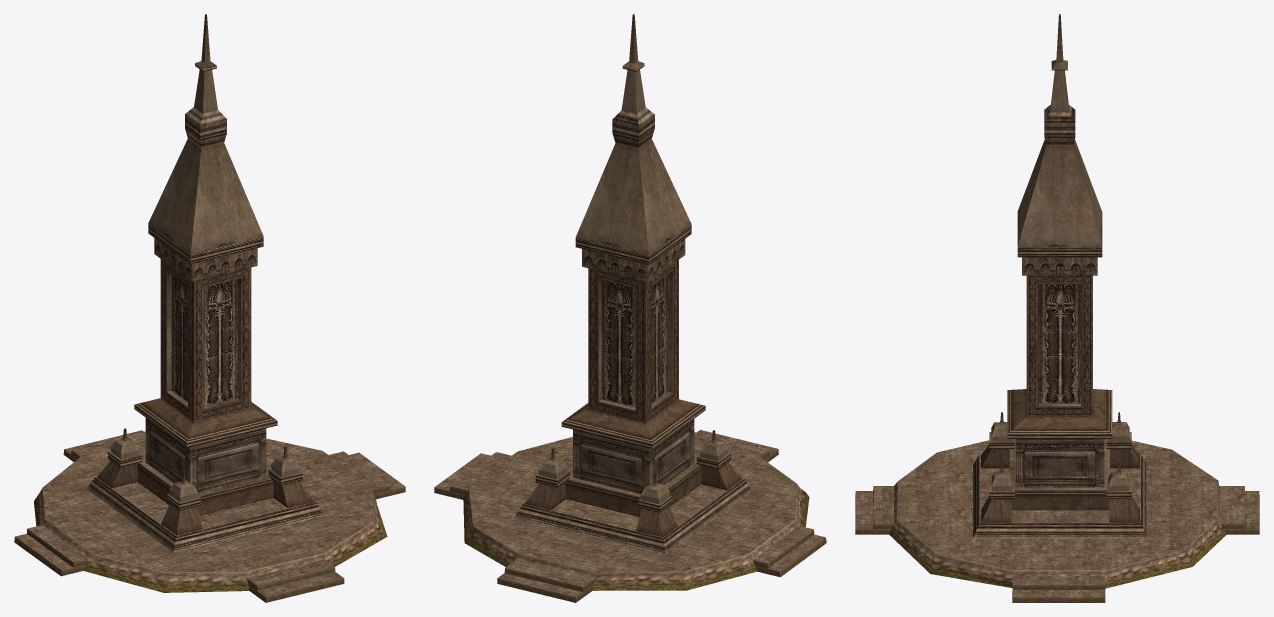
File: ti_centertop.glb
3 views of the same model, side by side, from view 1: azimuth 30°, elevation 25°; view 2: azimuth 150°, elevation 25°; view 3: azimuth 270°, elevation 25° (orthographic).
Visible parts, largest first — view 1: TI_Center_Top; view 2: TI_Center_Top; view 3: TI_Center_Top.
Boxes of the visible parts, x1,y1,x2,y2 form: TI_Center_Top: (14,14,405,602); TI_Center_Top: (434,14,826,602); TI_Center_Top: (855,14,1259,602).
Size of the model in its own units: 4.75 by 6.62 by 4.82.
Materials: 10 (10 with a texture image).
